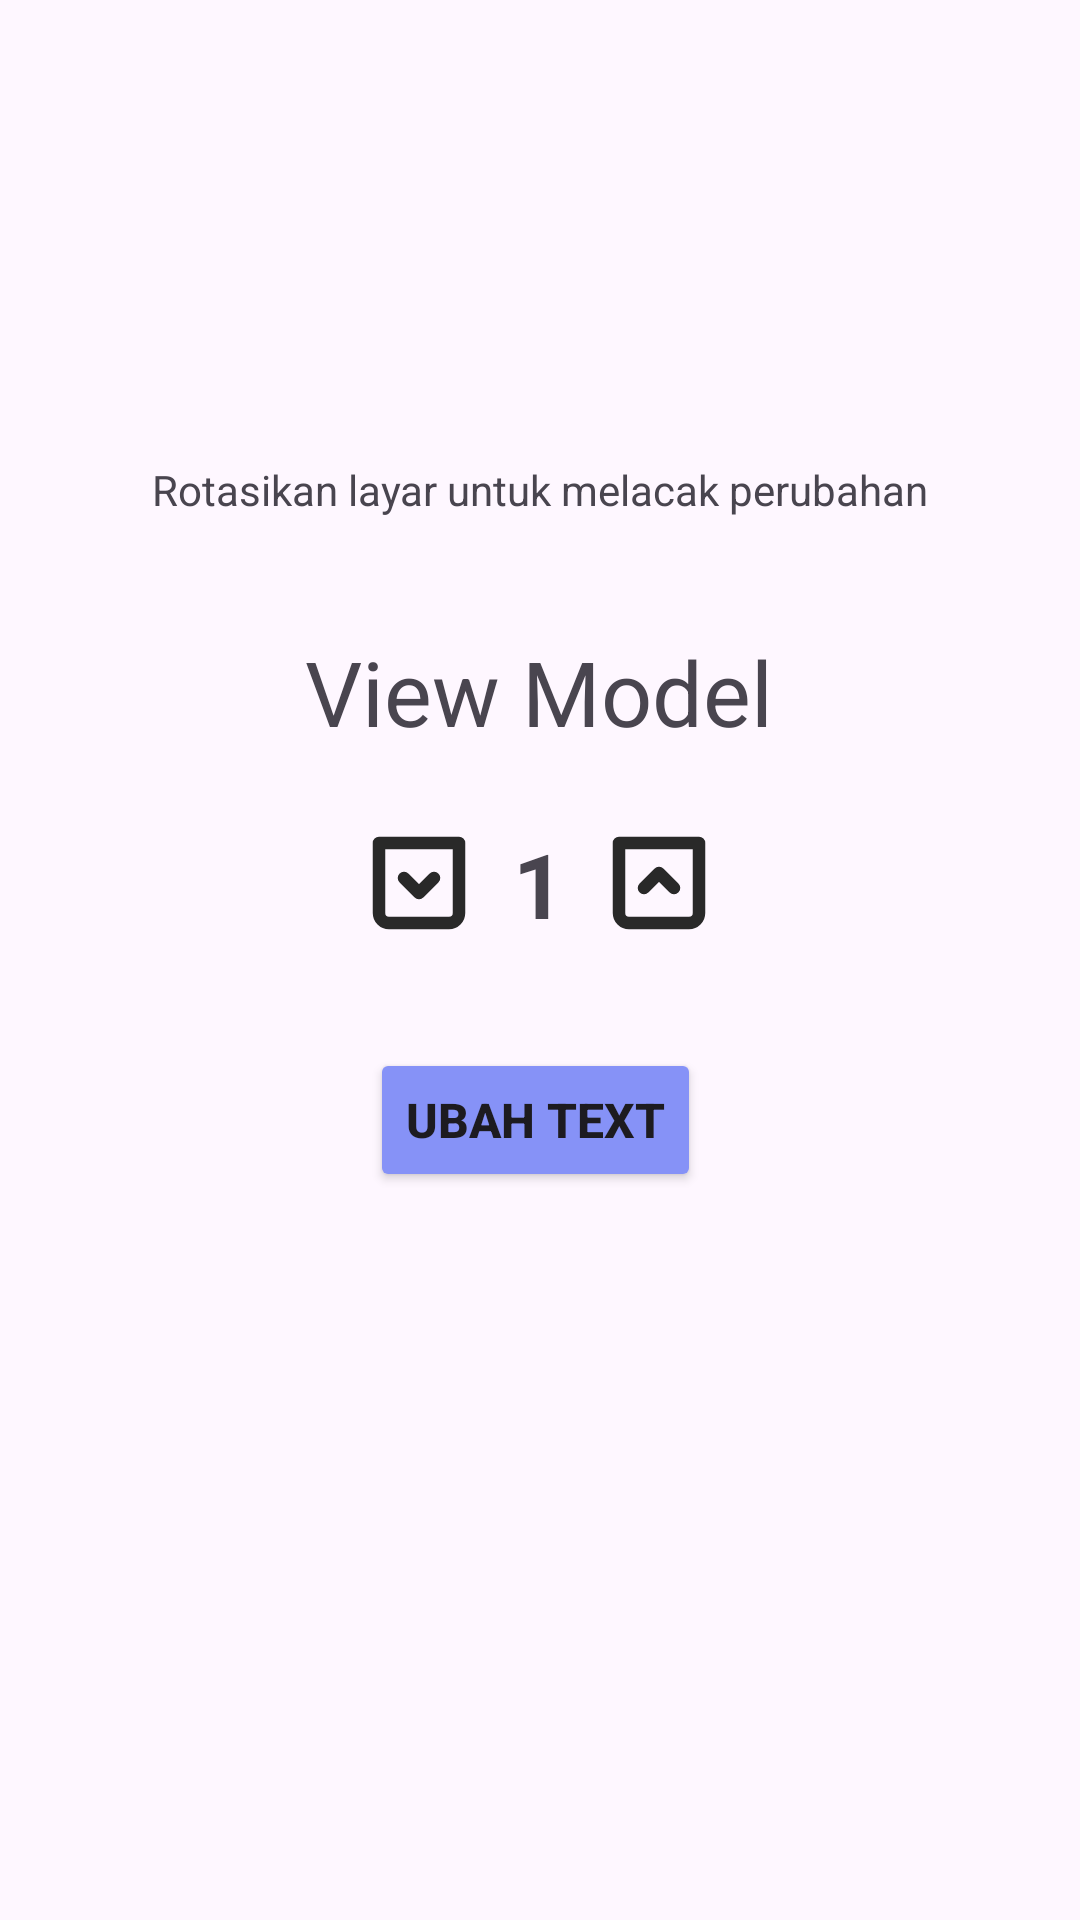

Named icons in this screenshot (1080×1920) and their centers, point (x, y):
arrowdown: point (419, 883)
arrowup: point (659, 883)
